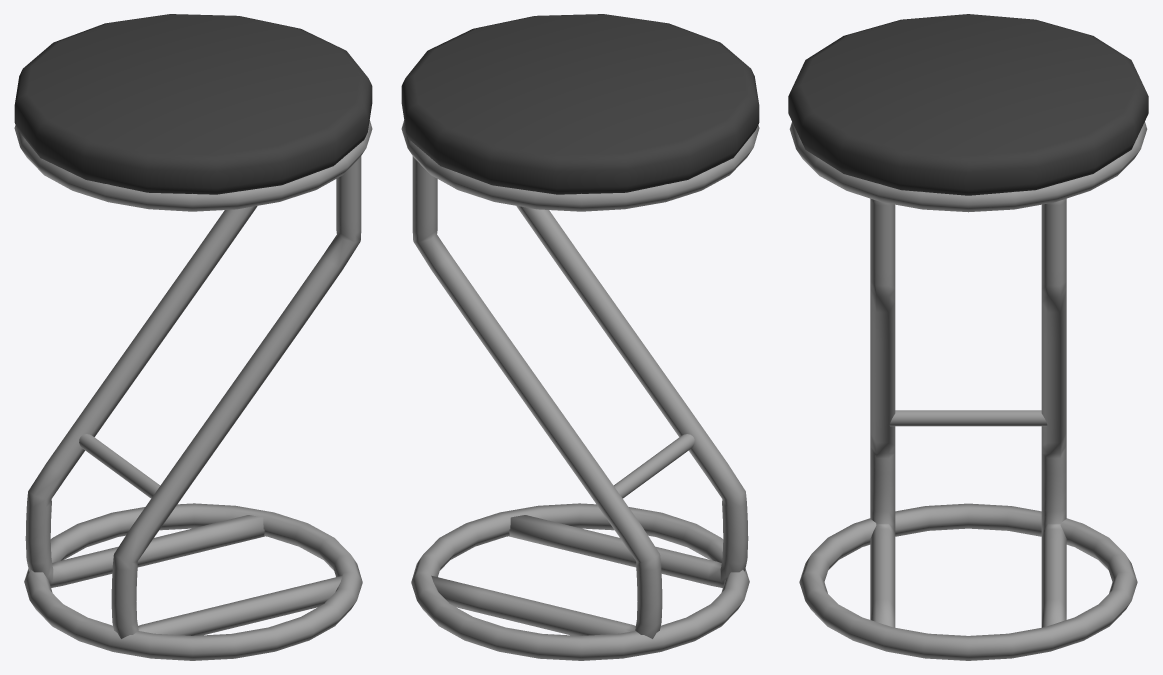
The model's file is Bar Chair05.fbx.
The picture shows the model from 3 angles, left to right: view 1: azimuth 30°, elevation 25°; view 2: azimuth 150°, elevation 25°; view 3: azimuth 270°, elevation 25°; orthographic projection.
Parts seen in each view (by area): view 1: Bar Chair05; view 2: Bar Chair05; view 3: Bar Chair05.
Part boxes in pixels (left/top/right/bottom): Bar Chair05: left=14, top=14, right=372, bottom=660; Bar Chair05: left=401, top=14, right=759, bottom=660; Bar Chair05: left=788, top=14, right=1148, bottom=660.
Bounding box in the file's own units: 0.2651 × 0.2651 × 0.4117.
